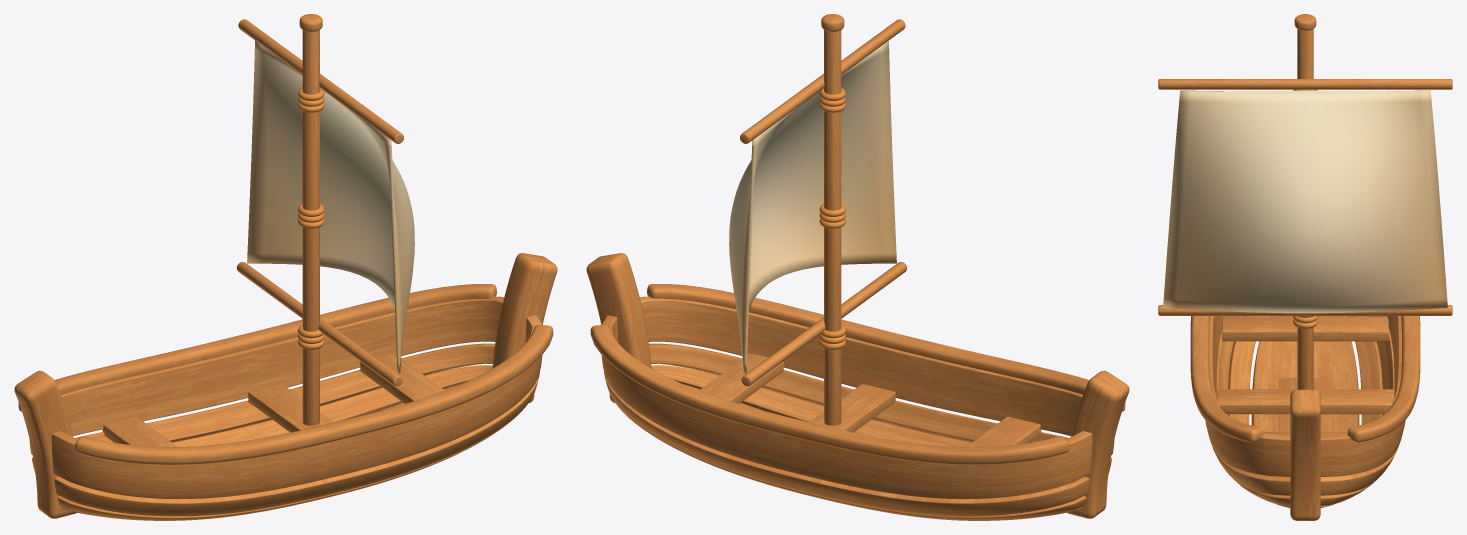
Rendered from boat.glb.
The picture shows the model from 3 angles, left to right: view 1: azimuth 30°, elevation 25°; view 2: azimuth 150°, elevation 25°; view 3: azimuth 270°, elevation 25°; orthographic projection. The views are drawn at different scales.
Visible parts, largest first — view 1: Boat Hull, Boat Sail, Boat Rail R, Boat Rail L, Boat Mast, Boat Stern Post, Boat Bow Post, Boat Yard, Boat Yard.001, Boat Thwart +0.11, Boat Thwart +0.55, Boat Thwart -0.50; view 2: Boat Hull, Boat Sail, Boat Rail L, Boat Rail R, Boat Mast, Boat Stern Post, Boat Bow Post, Boat Yard, Boat Yard.001, Boat Thwart +0.11, Boat Thwart +0.55, Boat Thwart -0.50; view 3: Boat Sail, Boat Hull, Boat Bow Post, Boat Thwart -0.50, Boat Thwart +0.11, Boat Yard.001, Boat Rail L, Boat Rail R, Boat Mast, Boat Yard, Boat Floor.
Boxes of the visible parts, x1=… form: Boat Hull: x1=29, y1=296, x2=542, y2=520; Boat Sail: x1=247, y1=40, x2=414, y2=373; Boat Rail R: x1=75, y1=324, x2=553, y2=464; Boat Rail L: x1=18, y1=284, x2=496, y2=411; Boat Mast: x1=302, y1=30, x2=319, y2=425; Boat Stern Post: x1=14, y1=370, x2=76, y2=518; Boat Bow Post: x1=492, y1=253, x2=557, y2=402; Boat Yard: x1=236, y1=262, x2=402, y2=386; Boat Yard.001: x1=238, y1=19, x2=403, y2=143; Boat Thwart +0.11: x1=248, y1=384, x2=333, y2=432; Boat Thwart +0.55: x1=360, y1=353, x2=444, y2=403; Boat Thwart -0.50: x1=102, y1=416, x2=177, y2=447; Boat Hull: x1=601, y1=296, x2=1114, y2=520; Boat Sail: x1=729, y1=40, x2=896, y2=373; Boat Rail L: x1=590, y1=324, x2=1068, y2=464; Boat Rail R: x1=647, y1=284, x2=1125, y2=411; Boat Mast: x1=824, y1=30, x2=841, y2=425; Boat Stern Post: x1=1067, y1=370, x2=1129, y2=518; Boat Bow Post: x1=586, y1=253, x2=651, y2=402; Boat Yard: x1=741, y1=262, x2=907, y2=386; Boat Yard.001: x1=740, y1=19, x2=905, y2=143; Boat Thwart +0.11: x1=810, y1=384, x2=895, y2=432; Boat Thwart +0.55: x1=699, y1=353, x2=783, y2=403; Boat Thwart -0.50: x1=966, y1=416, x2=1041, y2=447; Boat Sail: x1=1163, y1=90, x2=1447, y2=313; Boat Hull: x1=1205, y1=316, x2=1405, y2=507; Boat Bow Post: x1=1290, y1=389, x2=1320, y2=520; Boat Thwart -0.50: x1=1222, y1=316, x2=1388, y2=341; Boat Thwart +0.11: x1=1217, y1=389, x2=1393, y2=414; Boat Yard.001: x1=1158, y1=79, x2=1452, y2=89; Boat Rail L: x1=1347, y1=316, x2=1420, y2=442; Boat Rail R: x1=1190, y1=316, x2=1263, y2=442; Boat Mast: x1=1297, y1=29, x2=1313, y2=389; Boat Yard: x1=1158, y1=305, x2=1452, y2=315; Boat Floor: x1=1279, y1=377, x2=1331, y2=432.
Bounding box in the file's own units: 5.28 × 4.33 × 2.7.
Materials: 3 (1 with a texture image).
